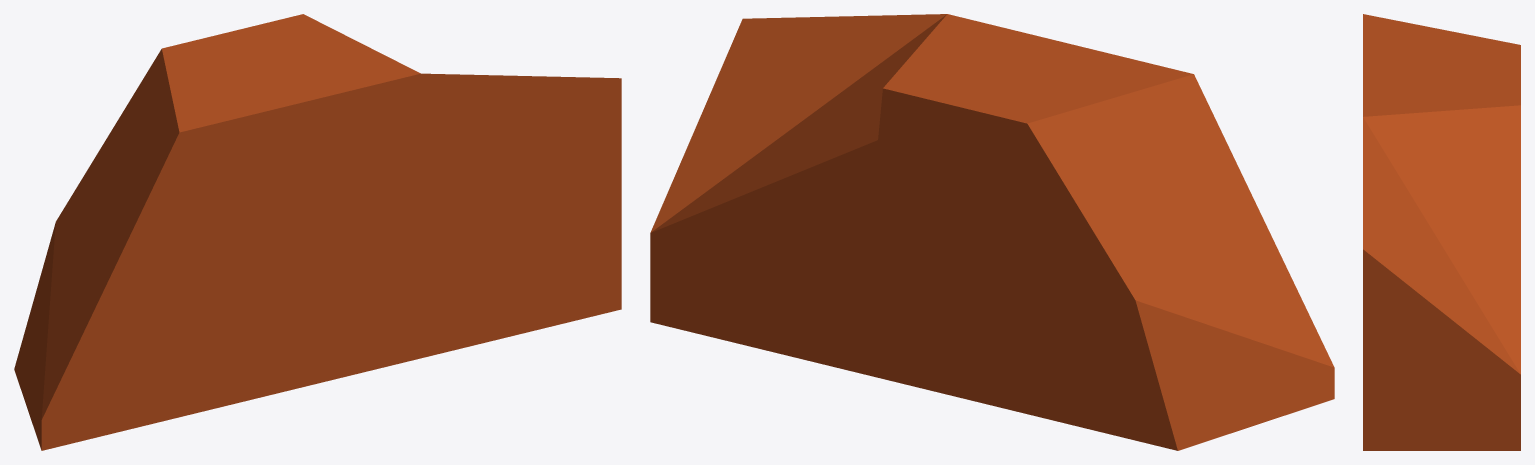
The model's file is Trash_2.fbx.
3 views of the same model, side by side, from view 1: azimuth 30°, elevation 25°; view 2: azimuth 150°, elevation 25°; view 3: azimuth 270°, elevation 25° (orthographic). The views are drawn at different scales.
Parts seen in each view (by area): view 1: Brick 4; view 2: Brick 4; view 3: Brick 4.
Part boxes in pixels (x1,y1,x2,y2): Brick 4: (14, 14, 621, 450); Brick 4: (650, 14, 1334, 450); Brick 4: (1363, 14, 1520, 450).
Size of the model in its own units: 47.21 by 22.15 by 12.76.
